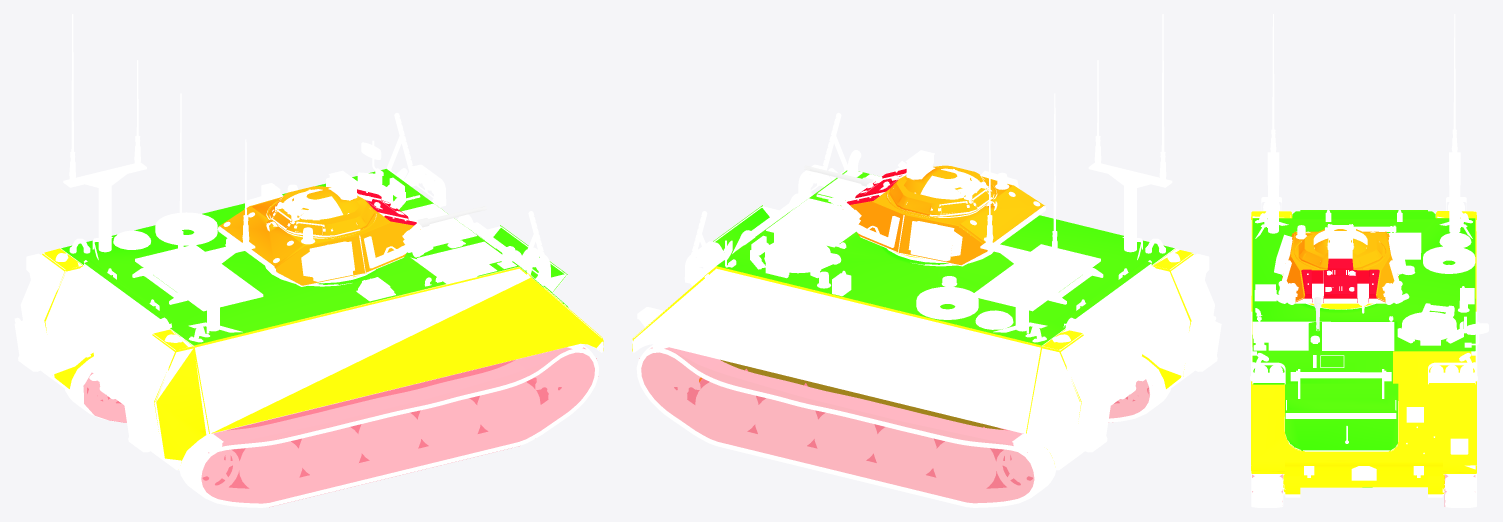
File: TLAV.gltf
3 views of the same model, side by side, from view 1: azimuth 30°, elevation 25°; view 2: azimuth 150°, elevation 25°; view 3: azimuth 270°, elevation 25° (orthographic). The views are drawn at different scales.
Parts seen in each view (by area): view 1: 6, TLAV_Tracks_Col2_46, TLAV_Hull_Col, 6_4, TLAV_Hull_Col_1, TLAV_Turret_Col_1, 6_6, 6_1, 6_2.001, 6_3, TLAV_Tracks_Col_43; view 2: 6, TLAV_Tracks_Col_43, TLAV_Hull_Col_1, 6_3, TLAV_Turret_Col_1, 6_6, 6_1, TLAV_Hull_Col, 6_2.001, 6_4, TLAV_Tracks_Col2_46; view 3: TLAV_Hull_Col_1, TLAV_Hull_Col, 6, 6_6, TLAV_Turret_Col_1, 6_1, TLAV_Turret_Col, 6_4, 6_3, 6_5.
Boxes of the visible parts, x1,y1,x2,y2 form: 6: [18, 14, 603, 498]; TLAV_Tracks_Col2_46: [201, 347, 596, 503]; TLAV_Hull_Col: [42, 248, 603, 462]; 6_4: [179, 344, 598, 507]; TLAV_Hull_Col_1: [61, 169, 568, 345]; TLAV_Turret_Col_1: [218, 186, 420, 285]; 6_6: [217, 170, 433, 286]; 6_1: [402, 204, 565, 290]; 6_2.001: [14, 317, 154, 449]; 6_3: [65, 371, 126, 422]; TLAV_Tracks_Col_43: [83, 373, 126, 422]; 6: [632, 14, 1217, 498]; TLAV_Tracks_Col_43: [639, 347, 1033, 502]; TLAV_Hull_Col_1: [713, 170, 1174, 429]; 6_3: [636, 344, 1055, 507]; TLAV_Turret_Col_1: [850, 165, 1044, 265]; 6_6: [830, 150, 1045, 266]; 6_1: [707, 174, 882, 270]; TLAV_Hull_Col: [632, 249, 1193, 463]; 6_2.001: [1080, 315, 1221, 449]; 6_4: [1108, 371, 1170, 422]; TLAV_Tracks_Col2_46: [1109, 379, 1149, 418]; TLAV_Hull_Col_1: [1252, 210, 1475, 487]; TLAV_Hull_Col: [1251, 211, 1476, 494]; 6: [1250, 14, 1488, 497]; 6_6: [1272, 224, 1409, 304]; TLAV_Turret_Col_1: [1281, 229, 1399, 302]; 6_1: [1254, 322, 1393, 349]; TLAV_Turret_Col: [1297, 258, 1379, 302]; 6_4: [1251, 473, 1283, 507]; 6_3: [1445, 473, 1476, 507]; 6_5: [1312, 283, 1368, 330].
Size of the model in its own units: 5.18 by 4.5 by 2.74.
